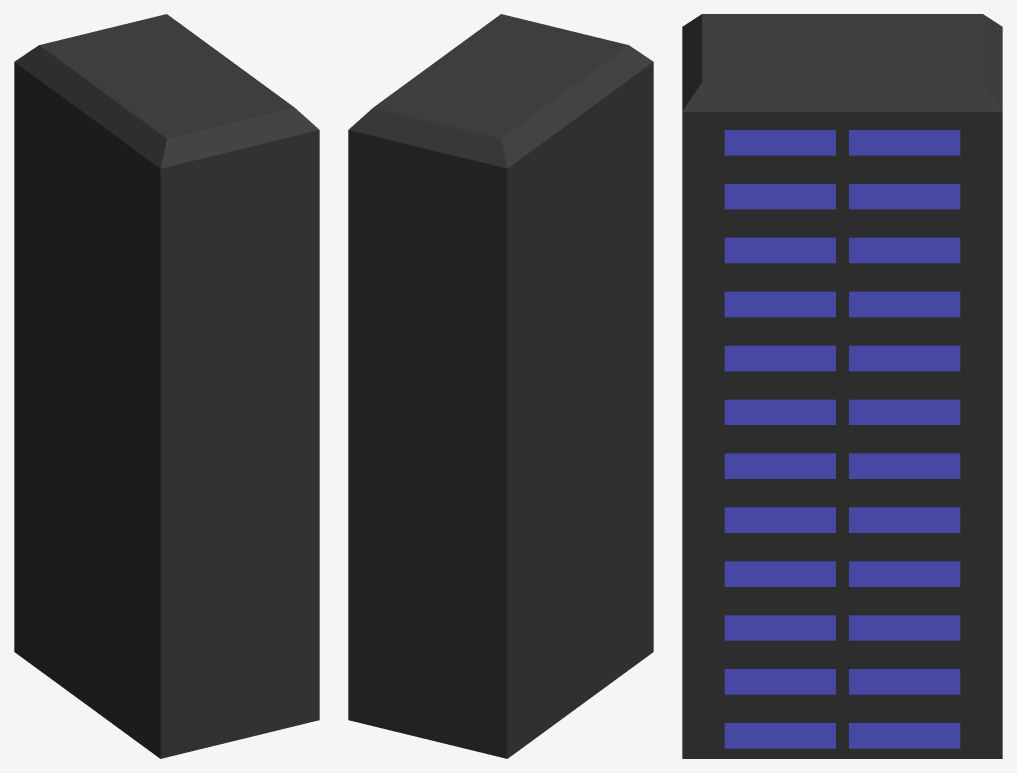
The model's file is Ngoaicanh1.fbx.
The picture shows the model from 3 angles, left to right: view 1: azimuth 30°, elevation 25°; view 2: azimuth 150°, elevation 25°; view 3: azimuth 270°, elevation 25°; orthographic projection. The views are drawn at different scales.
Parts seen in each view (by area): view 1: Group1; view 2: Group1; view 3: Group1.
Part boxes in pixels (<box>): Group1: <box>14,14,319,758</box>; Group1: <box>348,14,653,758</box>; Group1: <box>682,14,1002,758</box>.
Size of the model in its own units: 11210 by 41034 by 17836.
